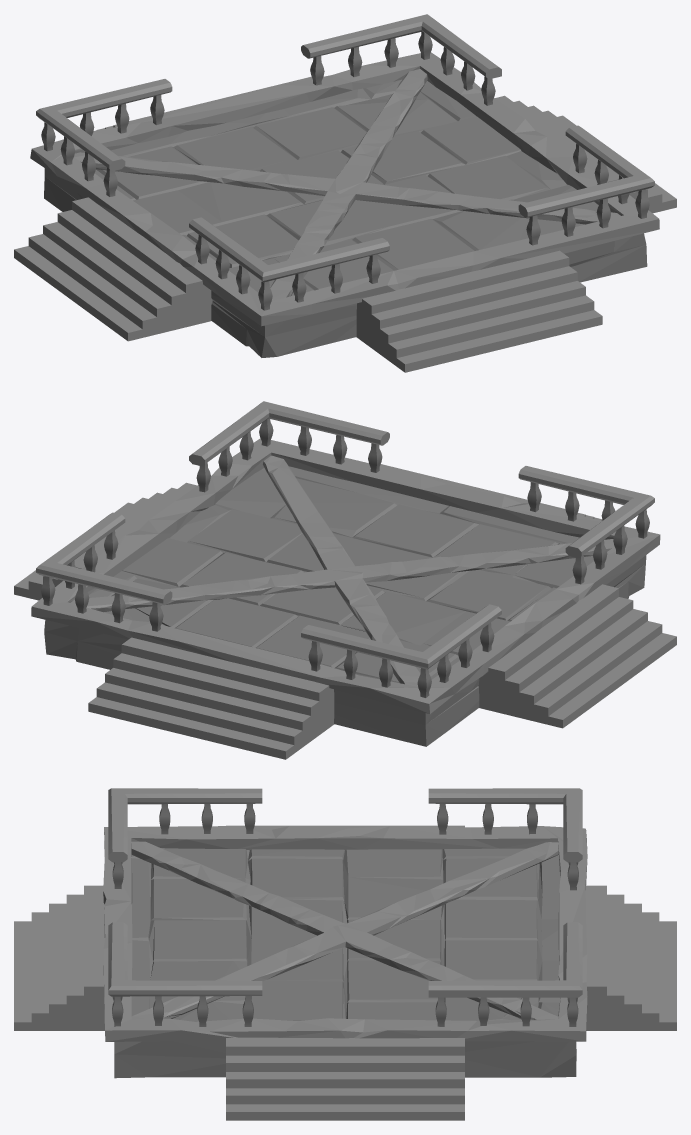
The model's file is castle_base_a.FBX.
The picture shows the model from 3 angles, top to bottom: view 1: azimuth 30°, elevation 25°; view 2: azimuth 150°, elevation 25°; view 3: azimuth 270°, elevation 25°; orthographic projection. The views are drawn at different scales.
Parts seen in each view (by area): view 1: castle_base_a; view 2: castle_base_a; view 3: castle_base_a.
Part boxes in pixels (<box>): castle_base_a: <box>14,14,676,372</box>; castle_base_a: <box>14,401,676,759</box>; castle_base_a: <box>14,788,676,1120</box>.
Bounding box in the file's own units: 13.63 × 2.13 × 13.63.
